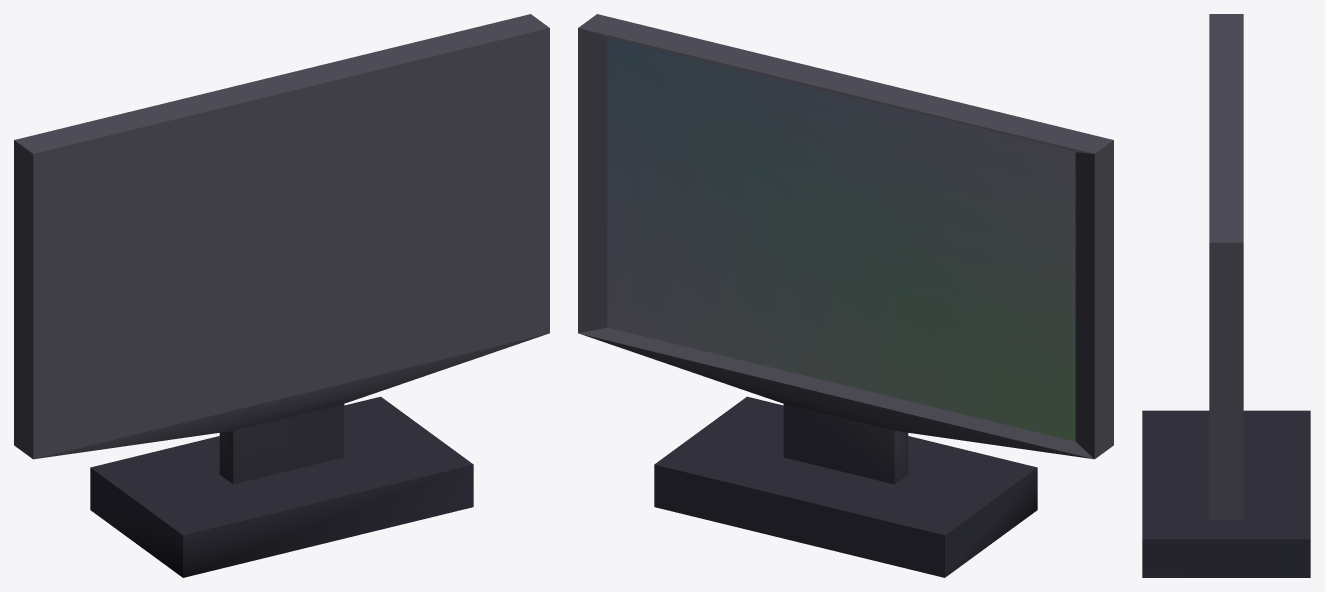
Rendered from receptionTableComputer.fbx.
3 renders of one model, left to right at view 1: azimuth 30°, elevation 25°; view 2: azimuth 150°, elevation 25°; view 3: azimuth 270°, elevation 25°, orthographic. The views are drawn at different scales.
Visible parts, largest first — view 1: DeskComp; view 2: DeskComp; view 3: DeskComp.
Part boxes in pixels (bbox=[...]): DeskComp: bbox=[14, 14, 549, 577]; DeskComp: bbox=[578, 14, 1113, 577]; DeskComp: bbox=[1142, 14, 1310, 577].
Bounding box in the file's own units: 0.6712 × 0.5271 × 0.2089.
